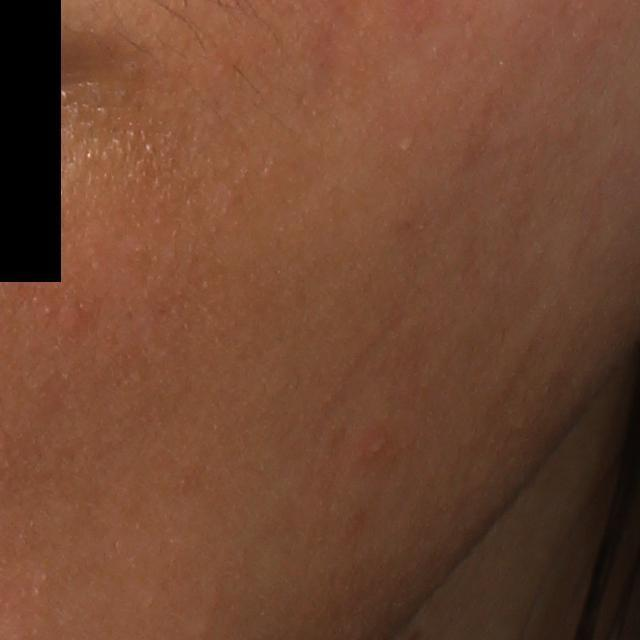papule: (362, 426, 393, 461)
